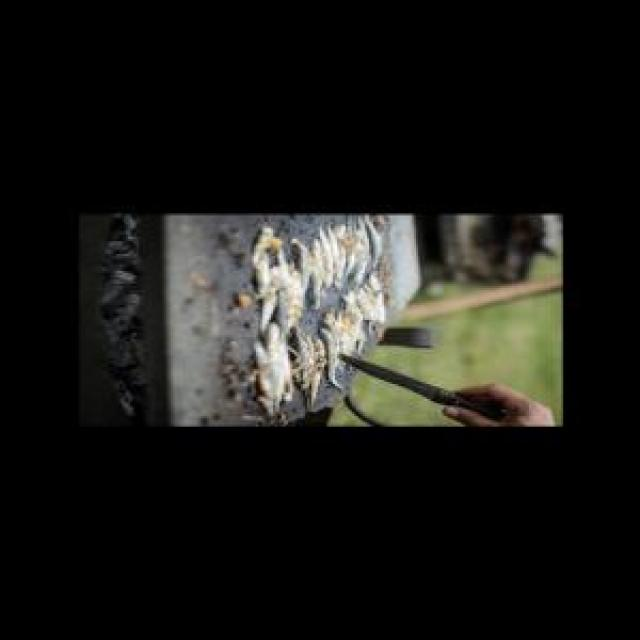knife: (328, 350, 526, 427)
